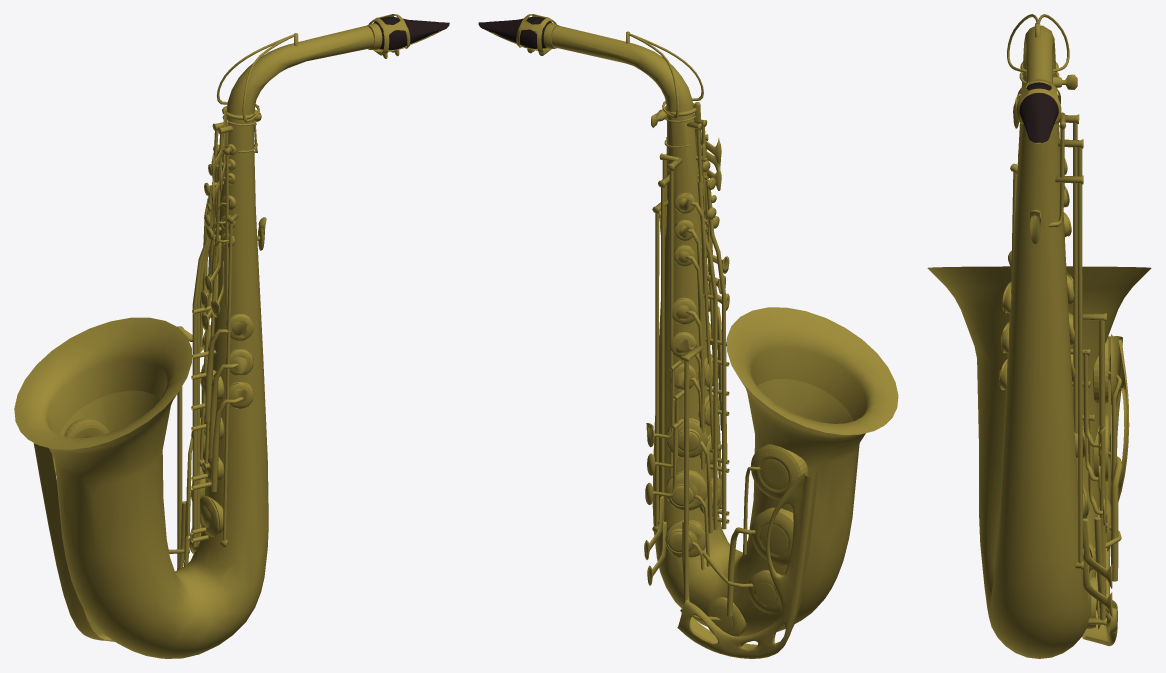
The model's file is saxophone.glb.
3 renders of one model, left to right at view 1: azimuth 30°, elevation 25°; view 2: azimuth 150°, elevation 25°; view 3: azimuth 270°, elevation 25°, orthographic. The views are drawn at different scales.
Visible parts, largest first — view 1: Object_2, Object_3, Object_7, Object_5, Object_6, Object_8, Object_4; view 2: Object_2, Object_3, Object_7, Object_4, Object_9, Object_5, Object_6, Object_8; view 3: Object_2, Object_3, Object_7, Object_9, Object_5, Object_4, Object_6, Object_8.
Part boxes in pixels (x1=…): Object_2: x1=14, y1=25, x2=373, y2=658; Object_3: x1=177, y1=33, x2=298, y2=570; Object_7: x1=33, y1=443, x2=114, y2=641; Object_5: x1=373, y1=17, x2=449, y2=50; Object_6: x1=366, y1=14, x2=442, y2=58; Object_8: x1=217, y1=34, x2=294, y2=122; Object_4: x1=53, y1=418, x2=108, y2=459; Object_2: x1=552, y1=26, x2=898, y2=636; Object_3: x1=626, y1=31, x2=729, y2=612; Object_7: x1=677, y1=466, x2=819, y2=658; Object_4: x1=751, y1=444, x2=808, y2=499; Object_9: x1=682, y1=466, x2=760, y2=621; Object_5: x1=478, y1=16, x2=551, y2=48; Object_6: x1=485, y1=14, x2=559, y2=55; Object_8: x1=628, y1=33, x2=703, y2=118; Object_2: x1=927, y1=25, x2=1151, y2=658; Object_3: x1=998, y1=23, x2=1112, y2=625; Object_7: x1=1082, y1=336, x2=1129, y2=645; Object_9: x1=1094, y1=371, x2=1122, y2=620; Object_5: x1=1019, y1=82, x2=1058, y2=142; Object_4: x1=1093, y1=334, x2=1117, y2=405; Object_6: x1=1016, y1=78, x2=1061, y2=143; Object_8: x1=1007, y1=14, x2=1069, y2=72.
Bounding box in the file's own units: 0.5061 × 0.68 × 0.201.
